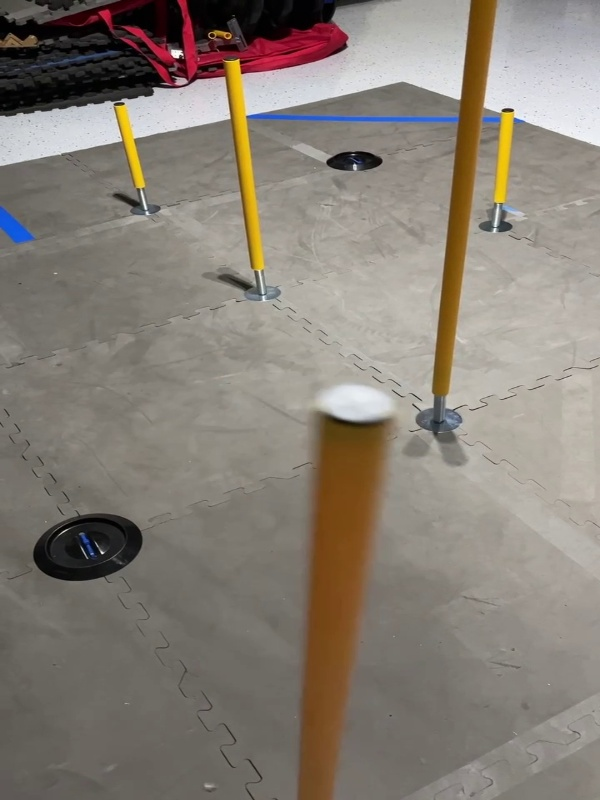top: (311, 380, 402, 434)
